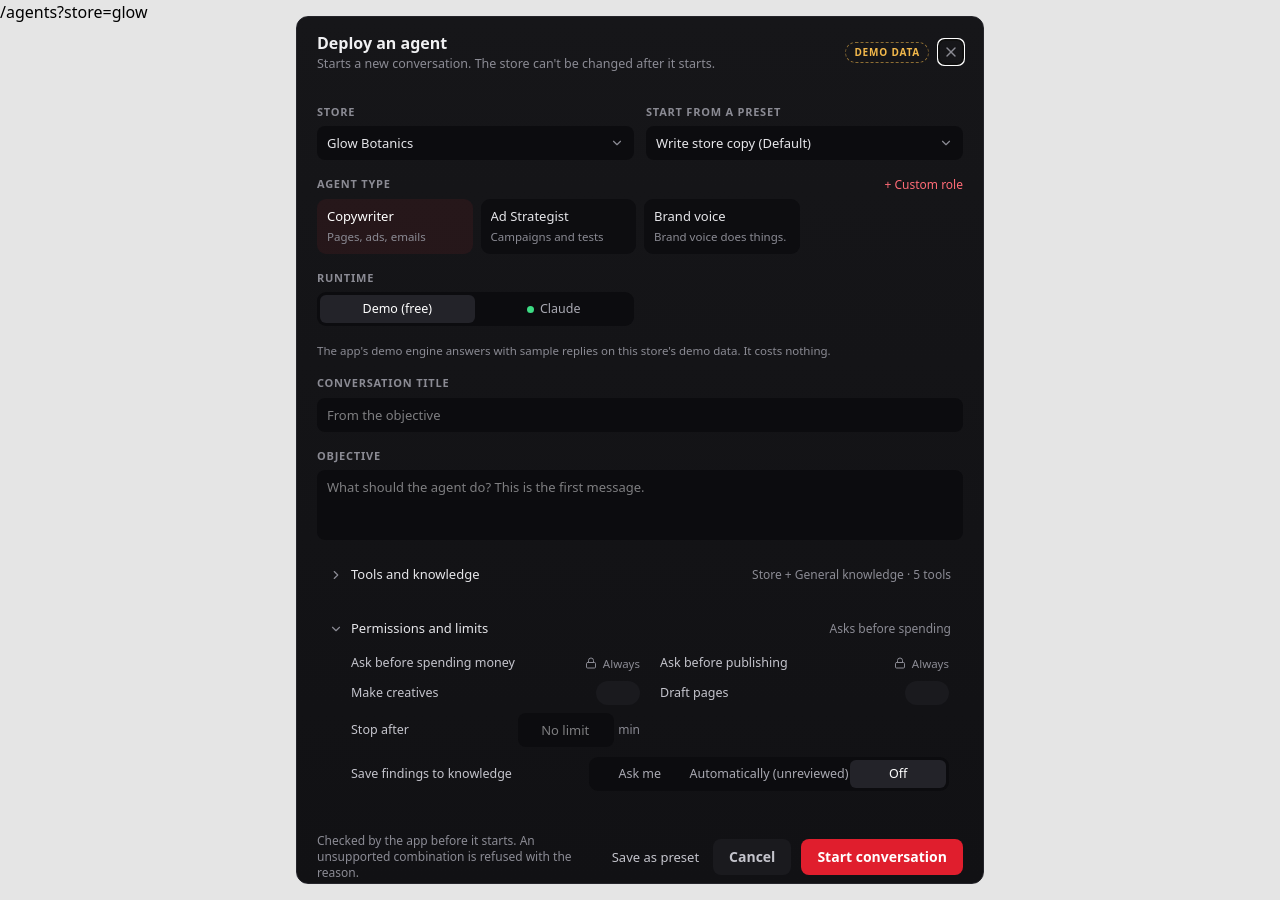
Test: a preset fills every field; Start sends exactly that config, and a refusal shows on its field
Select "Short voice" in the dropdown labelled "Start from a preset": (804, 143) [646, 126, 963, 160]
(page scrolled)
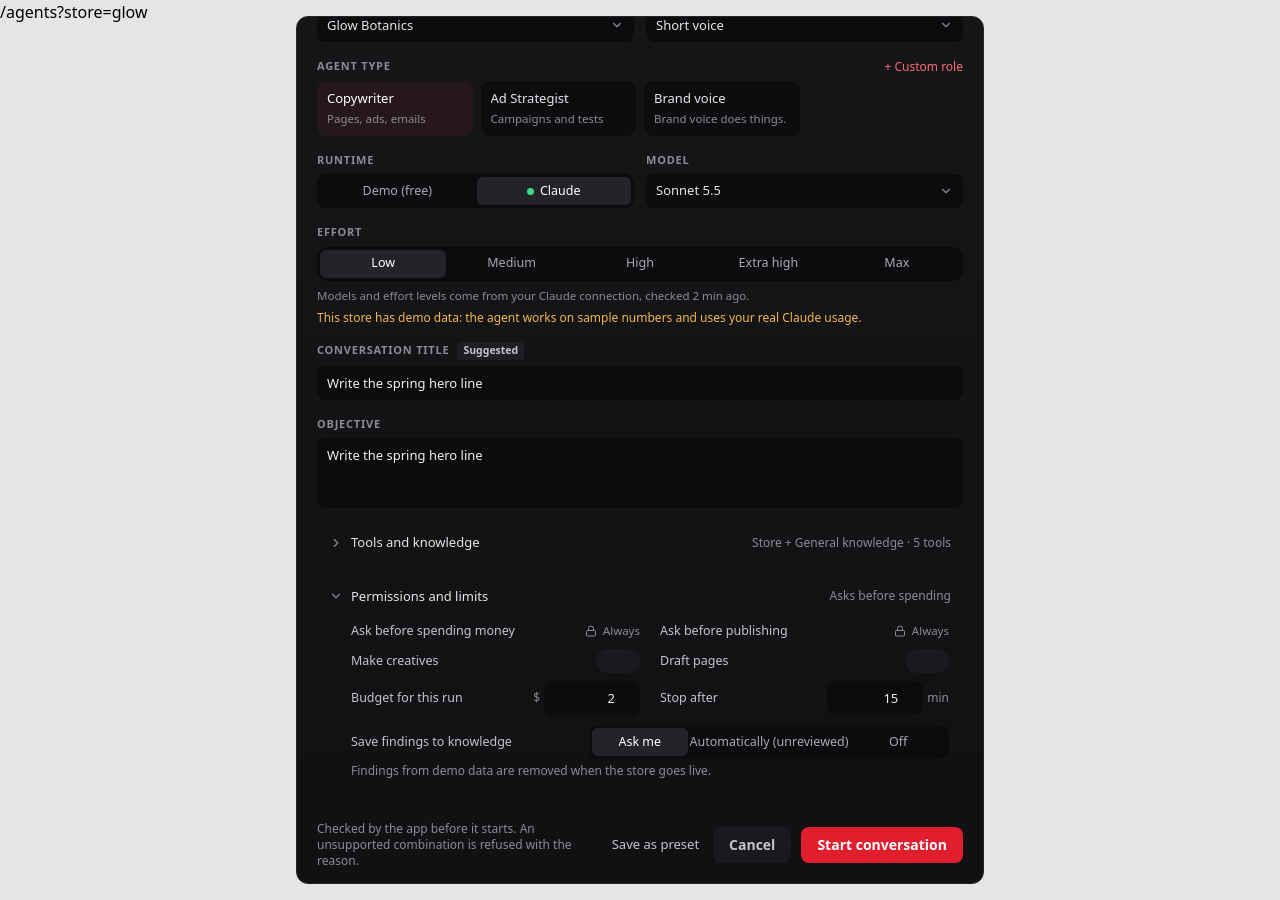
Result: the dropdown labelled "Model" shows "Sonnet 5.5" at [646, 174, 963, 208]
Result: the text "Models and effort levels come from your Claude connection, checked 2 min ago." is shown at [317, 288, 749, 302]
Result: the text "This store has demo data: the agent works on sample numbers and uses your real Claude usage." is shown at [317, 309, 862, 326]
Click the button "Start conversation": click(882, 845) [801, 827, 963, 863]
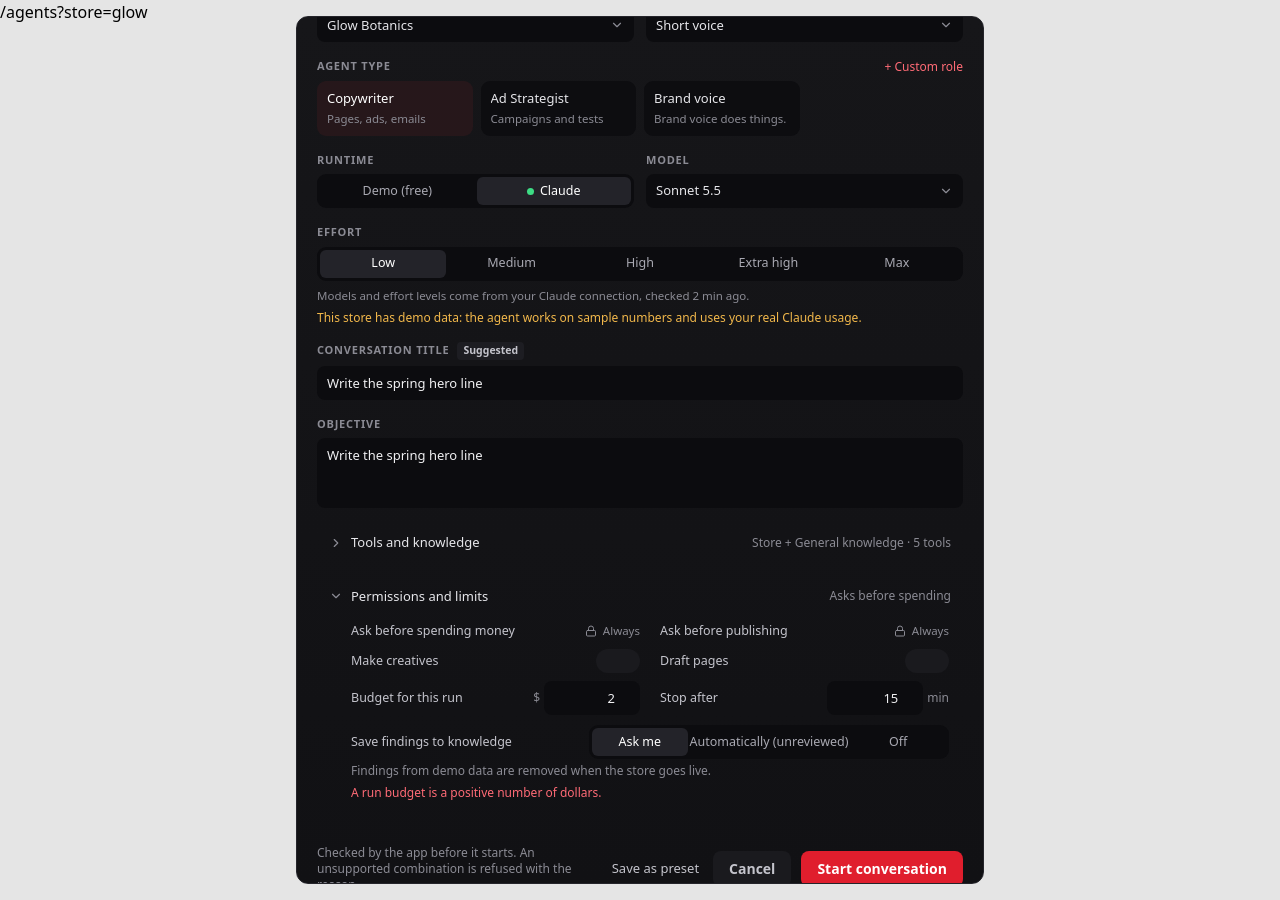
Expected: the text "Checked by the app before it starts. An unsupported combination is refused with the reason." is shown, [317, 844, 572, 884]
Result: the text "A run budget is a positive number of dollars." is shown at [351, 784, 602, 801]
Replace the text in the field labelled "Conversation title Suggested" with "Hero line": (640, 382) [317, 366, 963, 400]
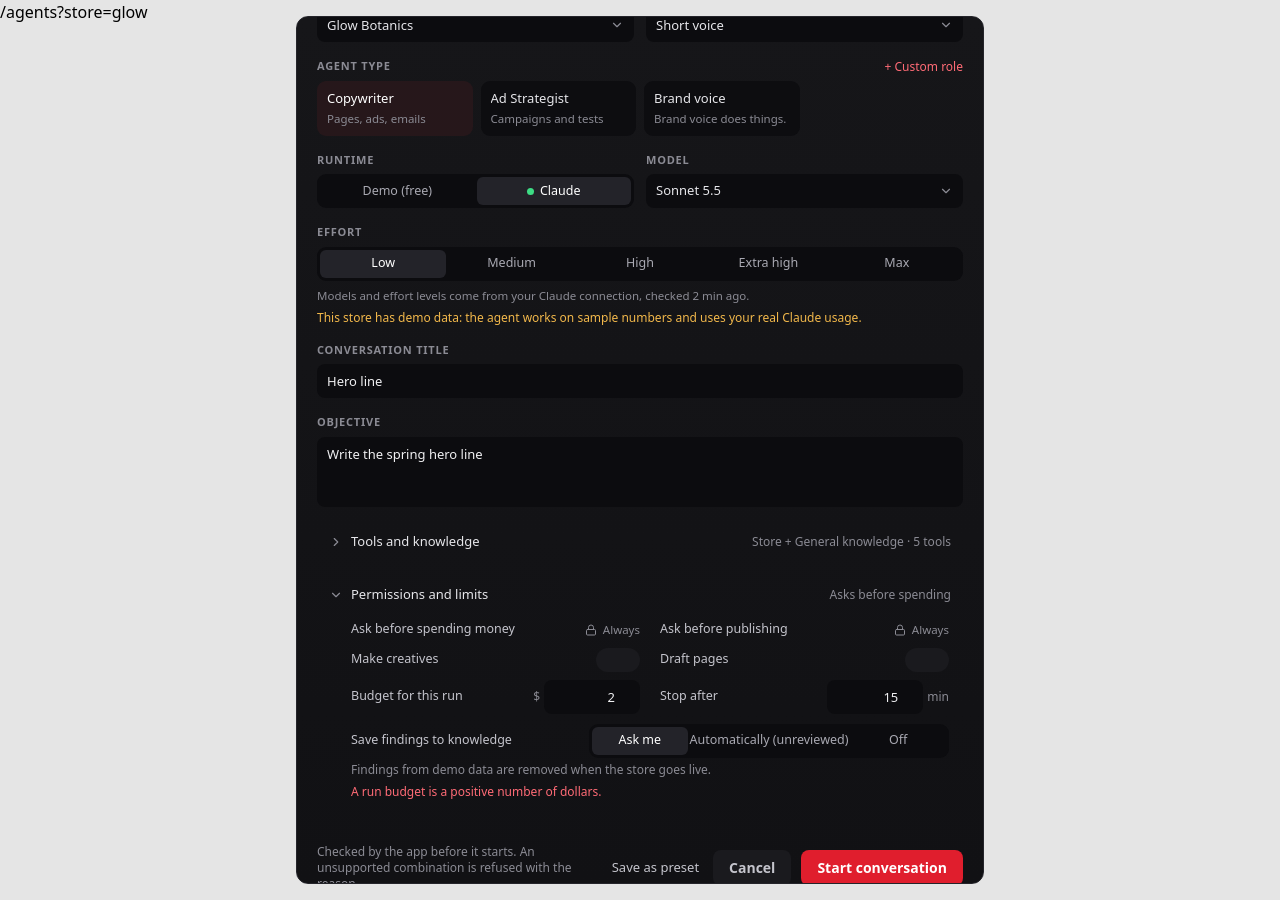
Result: the text "Suggested" is gone
Click the button "Start conversation": click(882, 868) [801, 850, 963, 886]
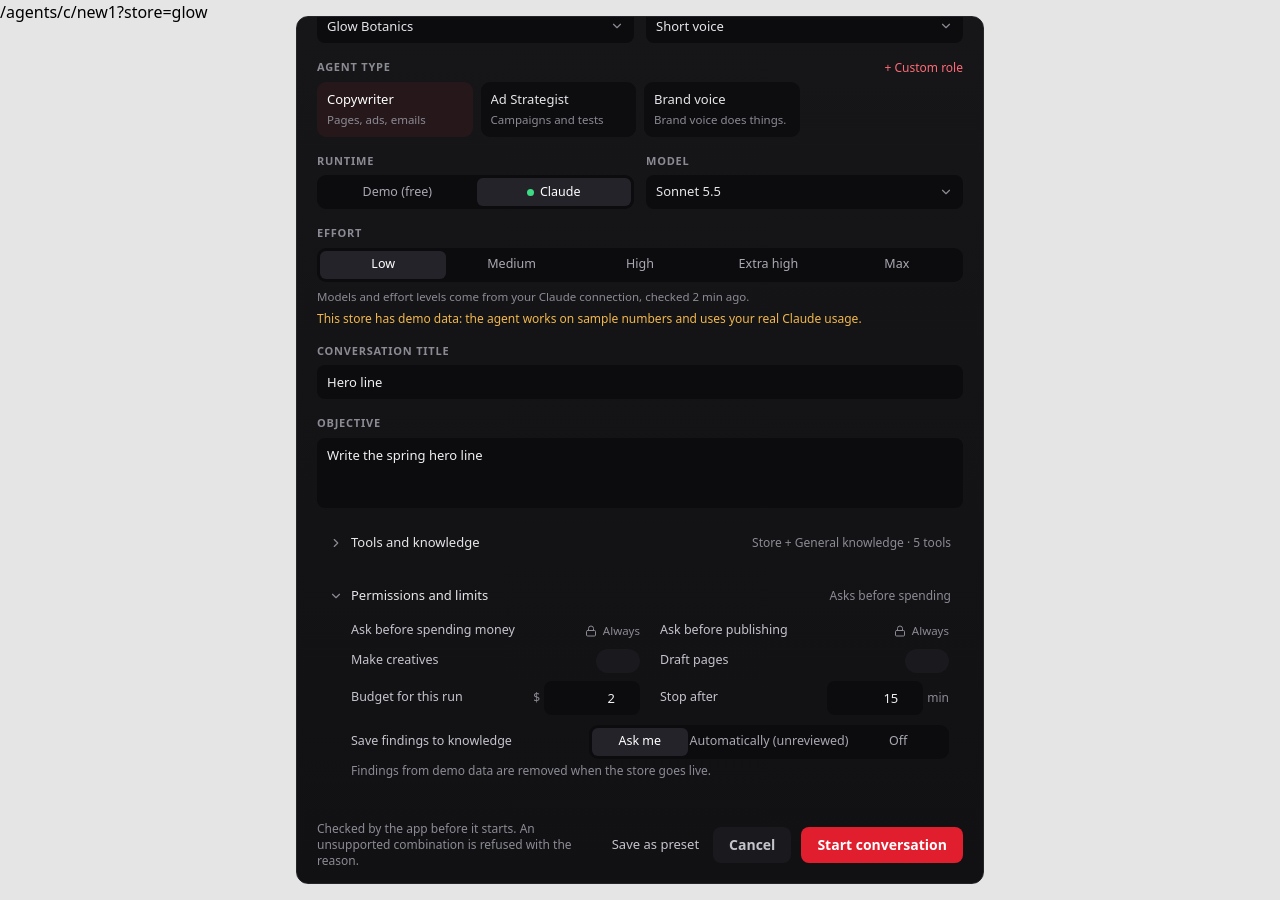
Result: the text with test id "where" reads "/agents/c/new1?store=glow" at [0, 1, 208, 23]
